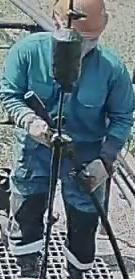gloves: (18, 111, 58, 148), (69, 158, 108, 195)
helmet: (53, 0, 108, 39)
vest: (10, 31, 119, 188)
